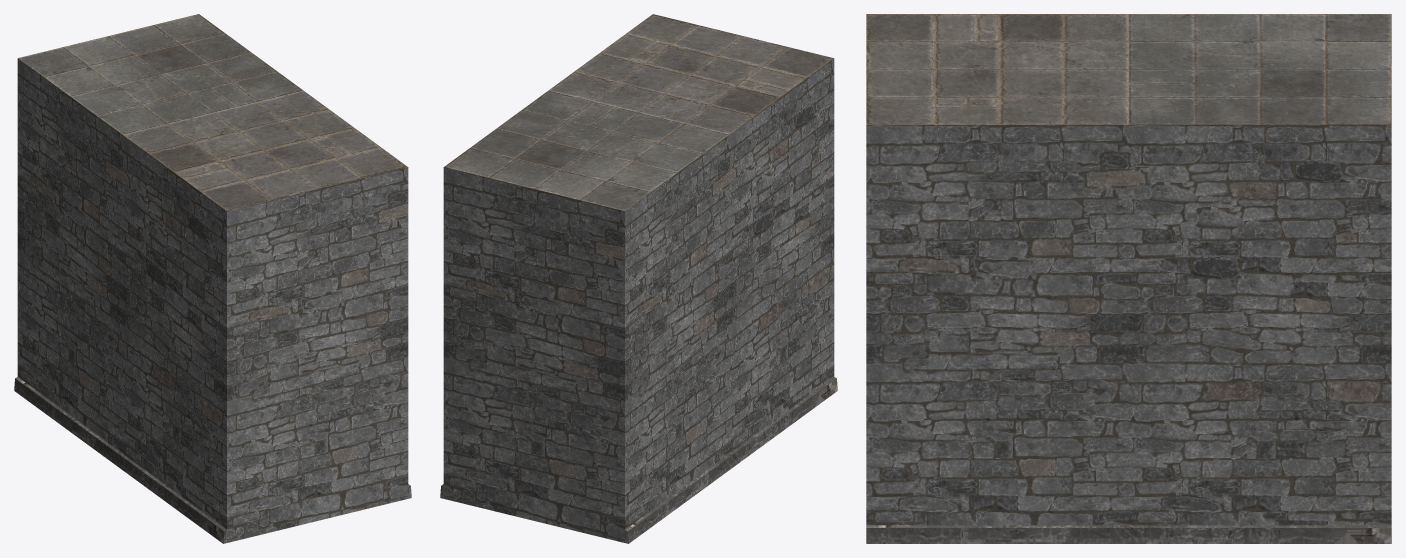
The model's file is MC_Castle_Wall_A_8m.fbx.
The picture shows the model from 3 angles, left to right: view 1: azimuth 30°, elevation 25°; view 2: azimuth 150°, elevation 25°; view 3: azimuth 270°, elevation 25°; orthographic projection. The views are drawn at different scales.
Visible parts, largest first — view 1: MC_Castle_Wall_A_8m; view 2: MC_Castle_Wall_A_8m; view 3: MC_Castle_Wall_A_8m.
Boxes of the visible parts, x1=… form: MC_Castle_Wall_A_8m: x1=14, y1=14, x2=411, y2=543; MC_Castle_Wall_A_8m: x1=440, y1=14, x2=837, y2=543; MC_Castle_Wall_A_8m: x1=866, y1=14, x2=1391, y2=543.
Bounding box in the file's own units: 416 × 700 × 800.
